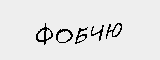Б: (75, 24, 90, 46)
О: (51, 27, 73, 44)
Ф: (34, 22, 52, 45)
Ч: (90, 25, 103, 45)
Ю: (103, 22, 124, 39)
